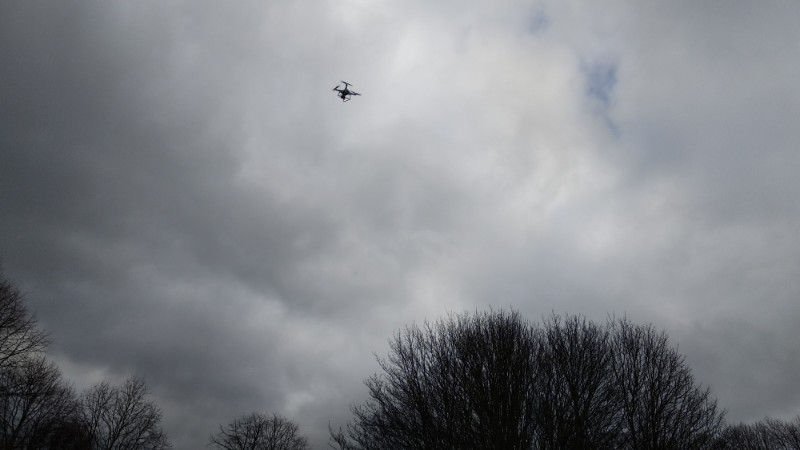drone: (333, 81, 361, 102)
